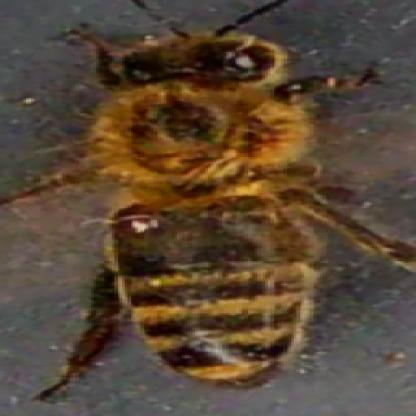bee: (62, 20, 350, 382)
vaoora: (117, 216, 164, 237)
